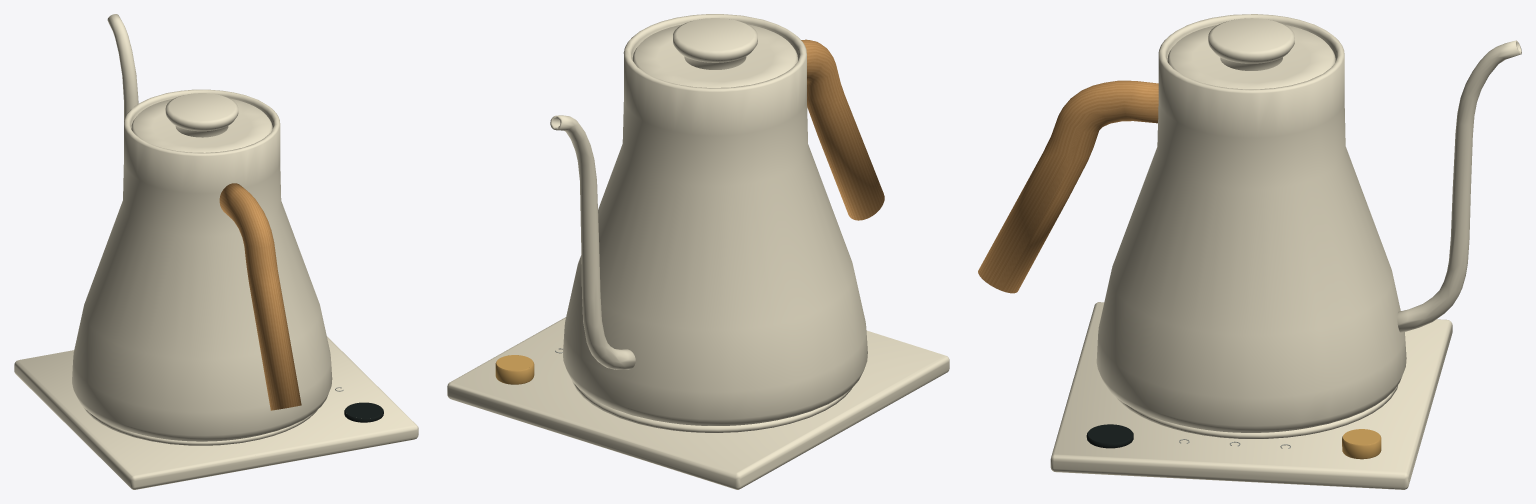
3 views of the same model, side by side, from view 1: azimuth 30°, elevation 25°; view 2: azimuth 150°, elevation 25°; view 3: azimuth 270°, elevation 25° (orthographic). The views are drawn at different scales.
Parts seen in each view (by area): view 1: kettle_0__kettle, kettle_0__base, kettle_0__lid; view 2: kettle_0__kettle, kettle_0__base, kettle_0__lid; view 3: kettle_0__kettle, kettle_0__base, kettle_0__lid.
Boxes of the visible parts, left/top/right/bottom form: kettle_0__kettle: left=72, top=14, right=332, bottom=441; kettle_0__base: left=14, top=336, right=418, bottom=489; kettle_0__lid: left=131, top=93, right=272, bottom=152; kettle_0__kettle: left=550, top=14, right=884, bottom=425; kettle_0__base: left=447, top=317, right=949, bottom=489; kettle_0__lid: left=632, top=18, right=797, bottom=87; kettle_0__kettle: left=978, top=14, right=1521, bottom=432; kettle_0__base: left=1050, top=302, right=1452, bottom=489; kettle_0__lid: left=1167, top=18, right=1335, bottom=89.
Bounding box in the file's own units: 0.21 × 0.2073 × 0.277.
7 materials, 1 textured.
